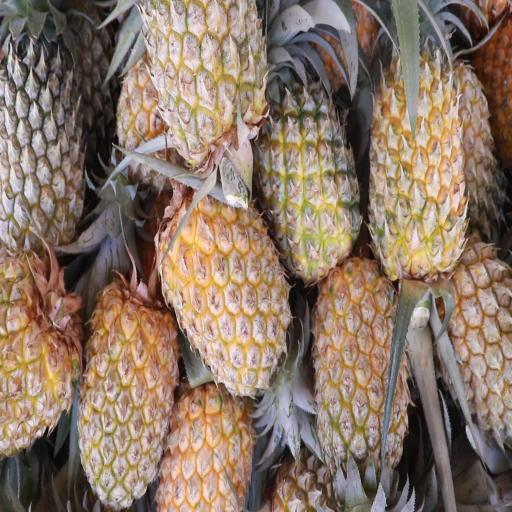------------------------------: (251, 36, 367, 281), (131, 0, 269, 170)
Pineapple - v8 v1: (153, 176, 296, 406), (364, 4, 470, 296), (308, 237, 410, 512), (74, 263, 184, 509), (0, 225, 84, 455), (435, 218, 512, 450), (150, 347, 256, 512)
